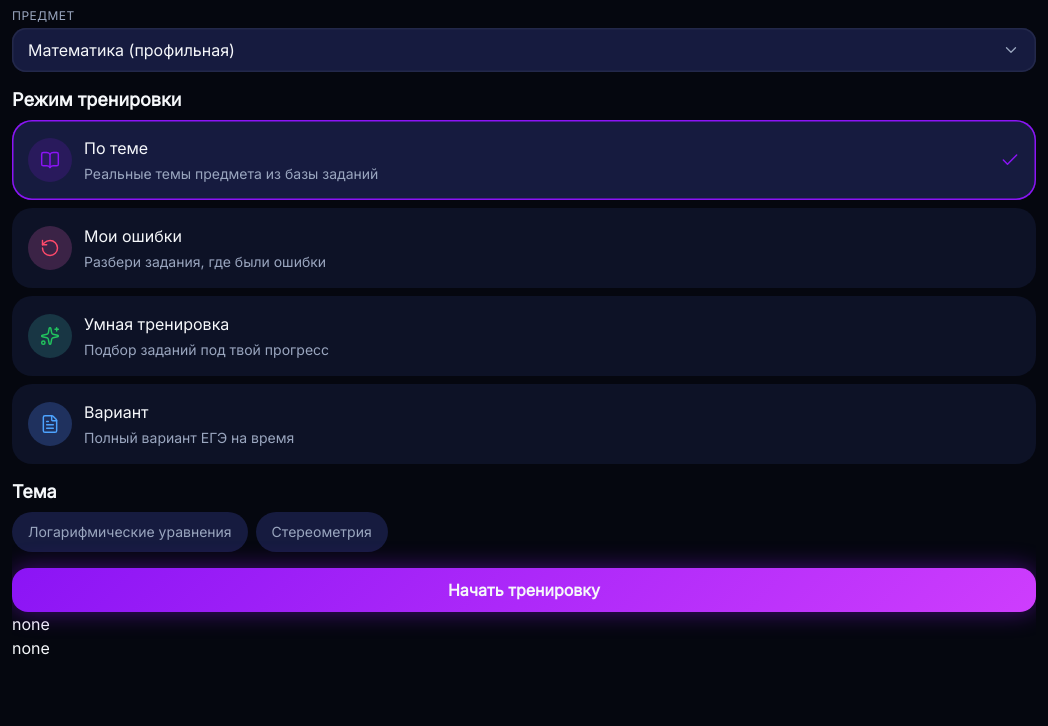
Scenario: Training — "Умная тренировка" (Phase 10: real backend learning session, unchanged) › starts a real session via the API and stores the real sessionId, never a fake one
Click the button "Умная тренировка Подбор заданий под твой прогресс" at (50, 336), box [12,296,1036,376]
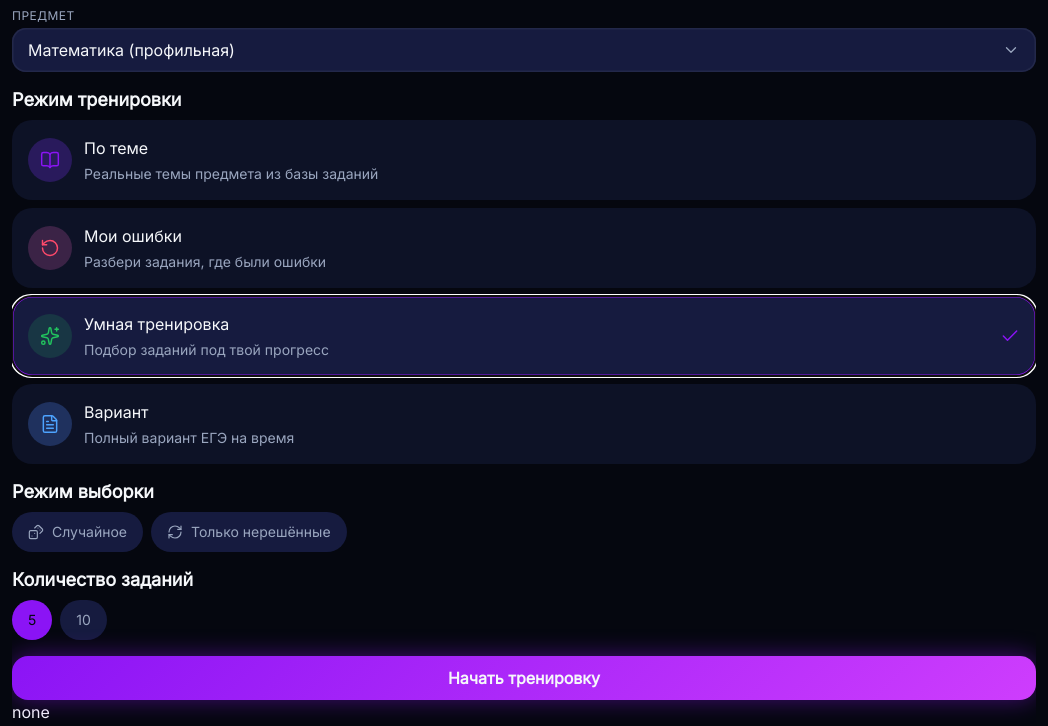
Click the button "Начать тренировку" at (524, 678), box [12,656,1036,700]
(page scrolled)
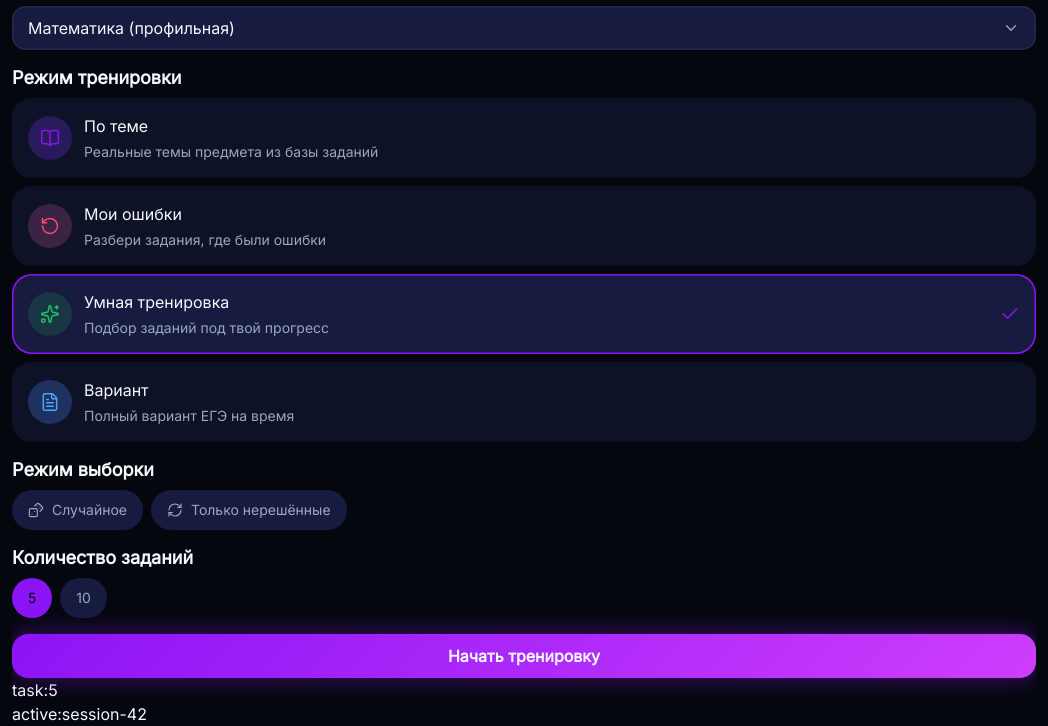
Expected: the text with test id "overlay" reads "task:5", [12,680,58,700]
Expected: the text with test id "session" reads "active:session-42", [12,704,147,724]
